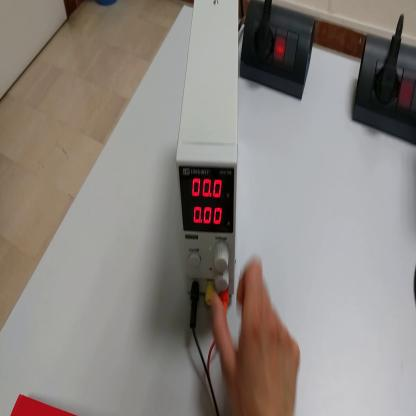hand: (209, 258, 301, 415)
power supply: (177, 2, 240, 303)
register: (12, 395, 79, 415)
socket: (350, 31, 416, 144), (241, 4, 317, 101)
